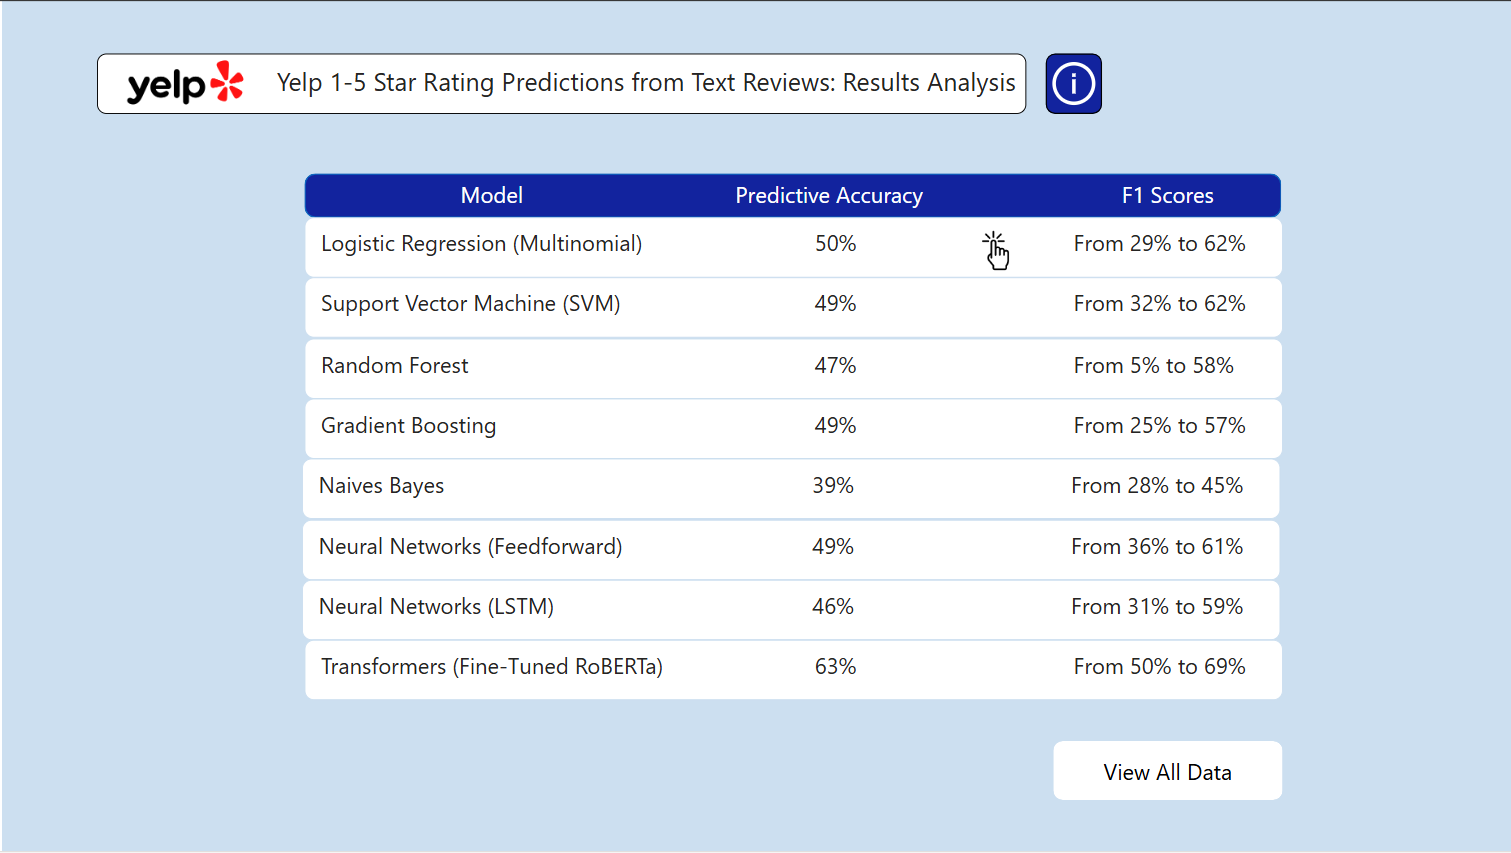

This screenshot's page, from the dashboard's own definition file:
{"tool":"powerbi","page":{"name":"Home","canvas":[1280,720],"ordinal":0},"visuals":[{"type":"shape","box":[256.1,146.6,827.5,37.5],"z":0},{"type":"textbox","box":[80.2,44.2,787.2,51.2],"z":1000},{"type":"image","box":[87.2,43,137.2,51.2],"z":2000},{"type":"textbox","box":[255.7,146.2,317.4,37.2],"z":3000},{"type":"textbox","box":[587.1,146.4,227.9,37.2],"z":4000},{"type":"textbox","box":[890.6,146.2,194.2,37.2],"z":5000},{"type":"textbox","box":[255.7,183.2,829.1,51.2],"z":6000},{"type":"textbox","box":[255.7,234.4,829.1,51.2],"z":7000},{"type":"textbox","box":[255.7,285.5,829.1,51.2],"z":8000},{"type":"textbox","box":[255.7,336.7,829.1,51.2],"z":9000},{"type":"textbox","box":[254.6,387.9,829.1,51.2],"z":10000},{"type":"textbox","box":[254.6,439,829.1,51.2],"z":11000},{"type":"textbox","box":[254.6,490.2,829.1,51.2],"z":12000},{"type":"textbox","box":[255.7,541.4,829.1,51.2],"z":13000},{"type":"image","box":[824.9,187.8,33.8,47.5],"z":14000},{"type":"actionButton","box":[256.1,541.6,828.8,51.2],"z":15000},{"type":"actionButton","box":[256.2,489.9,828.7,50.3],"z":16000},{"type":"actionButton","box":[255,440.8,828.7,50.3],"z":17000},{"type":"actionButton","box":[256.2,389.3,828.7,50.3],"z":18000},{"type":"actionButton","box":[256.2,337.8,828.7,50.3],"z":19000},{"type":"actionButton","box":[256.2,286.3,828.7,50.3],"z":20000},{"type":"actionButton","box":[255,234.8,828.7,50.3],"z":21000},{"type":"actionButton","box":[256.2,184.5,828.7,50.3],"z":22000},{"type":"actionButton","box":[890,627.1,194.3,50],"z":23000},{"type":"actionButton","box":[883.7,44.2,47.7,51.2],"z":23001}]}

Visuals, with their boxes in screenshot pixels (x1, y1, x2, y2), scaled from the page's 1280x720 canvas onto the 1511x853 screenshot:
shape: pyautogui.locateOnScreen(302, 174, 1279, 218)
textbox: pyautogui.locateOnScreen(95, 52, 1024, 113)
image: pyautogui.locateOnScreen(103, 51, 265, 112)
textbox: pyautogui.locateOnScreen(302, 173, 677, 217)
textbox: pyautogui.locateOnScreen(693, 173, 962, 218)
textbox: pyautogui.locateOnScreen(1051, 173, 1281, 217)
textbox: pyautogui.locateOnScreen(302, 217, 1281, 278)
textbox: pyautogui.locateOnScreen(302, 278, 1281, 338)
textbox: pyautogui.locateOnScreen(302, 338, 1281, 399)
textbox: pyautogui.locateOnScreen(302, 399, 1281, 460)
textbox: pyautogui.locateOnScreen(301, 460, 1279, 520)
textbox: pyautogui.locateOnScreen(301, 520, 1279, 581)
textbox: pyautogui.locateOnScreen(301, 581, 1279, 641)
textbox: pyautogui.locateOnScreen(302, 641, 1281, 702)
image: pyautogui.locateOnScreen(974, 222, 1014, 279)
actionButton: pyautogui.locateOnScreen(302, 642, 1281, 702)
actionButton: pyautogui.locateOnScreen(302, 580, 1281, 640)
actionButton: pyautogui.locateOnScreen(301, 522, 1279, 582)
actionButton: pyautogui.locateOnScreen(302, 461, 1281, 521)
actionButton: pyautogui.locateOnScreen(302, 400, 1281, 460)
actionButton: pyautogui.locateOnScreen(302, 339, 1281, 399)
actionButton: pyautogui.locateOnScreen(301, 278, 1279, 338)
actionButton: pyautogui.locateOnScreen(302, 219, 1281, 278)
actionButton: pyautogui.locateOnScreen(1051, 743, 1280, 802)
actionButton: pyautogui.locateOnScreen(1043, 52, 1099, 113)
